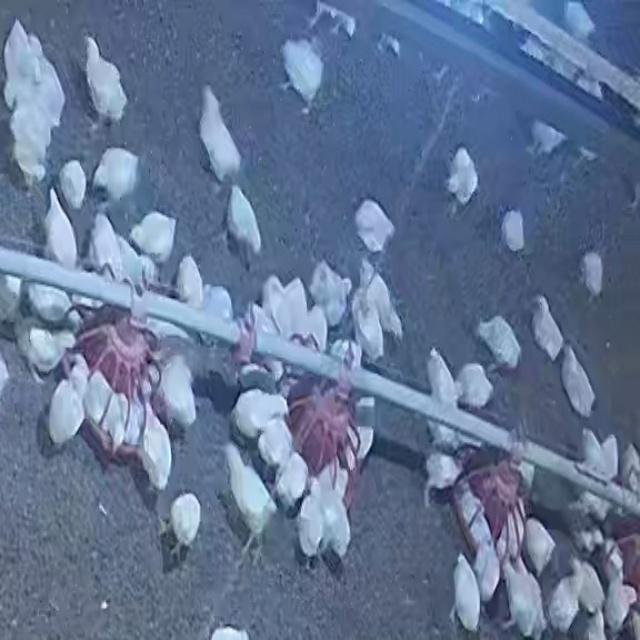chicken: (219, 438, 278, 563), (349, 261, 405, 362), (8, 101, 58, 189), (14, 317, 76, 382), (84, 31, 126, 125), (500, 554, 544, 638), (200, 91, 240, 177), (230, 386, 290, 442), (139, 406, 176, 494), (2, 18, 38, 106), (307, 258, 351, 328), (317, 476, 352, 564), (42, 185, 79, 268), (223, 178, 263, 254), (46, 373, 86, 449), (158, 355, 197, 432), (33, 46, 68, 131), (85, 210, 125, 282), (280, 39, 323, 103), (166, 490, 202, 566), (128, 211, 178, 265), (476, 314, 522, 372), (450, 553, 483, 633), (560, 346, 596, 418), (545, 565, 582, 634), (24, 281, 76, 329), (353, 198, 396, 256), (459, 477, 492, 551), (529, 295, 565, 361), (256, 417, 296, 473), (602, 562, 634, 632), (296, 490, 326, 562), (445, 146, 480, 207), (274, 452, 310, 511), (94, 148, 136, 198), (198, 282, 234, 340), (572, 560, 606, 621), (422, 448, 464, 497), (522, 518, 557, 576), (425, 347, 457, 410), (454, 362, 494, 410), (280, 278, 310, 342), (502, 488, 528, 559), (473, 539, 501, 602), (100, 388, 129, 448), (83, 372, 112, 430), (174, 254, 204, 308), (527, 118, 567, 158), (261, 274, 287, 328), (578, 426, 605, 476), (562, 1, 596, 38), (580, 250, 604, 300), (304, 304, 329, 352), (619, 441, 640, 495), (62, 159, 85, 208), (501, 209, 526, 253), (597, 432, 619, 482), (329, 338, 361, 368), (604, 542, 624, 580)
